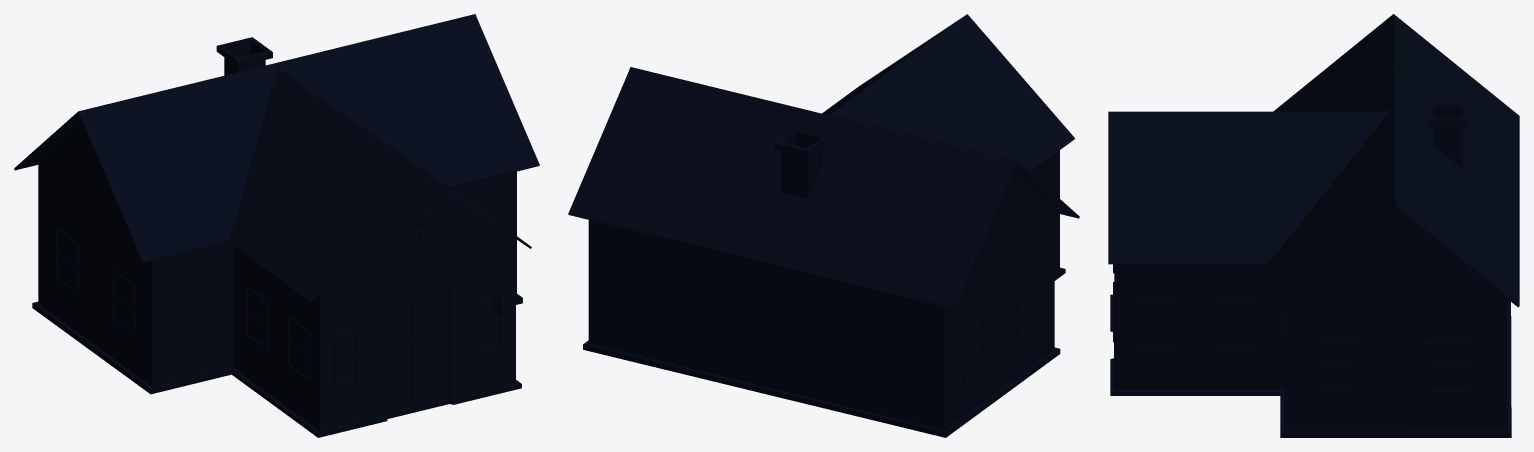
File: House_10_1.fbx
The picture shows the model from 3 angles, left to right: view 1: azimuth 30°, elevation 25°; view 2: azimuth 150°, elevation 25°; view 3: azimuth 270°, elevation 25°; orthographic projection. The views are drawn at different scales.
Parts seen in each view (by area): view 1: Plane.010; view 2: Plane.010; view 3: Plane.010.
Part boxes in pixels (x1=…): Plane.010: x1=14, y1=14, x2=539, y2=437; Plane.010: x1=568, y1=14, x2=1079, y2=437; Plane.010: x1=1108, y1=14, x2=1519, y2=437.
Bounding box in the file's own units: 862 × 505 × 788.
